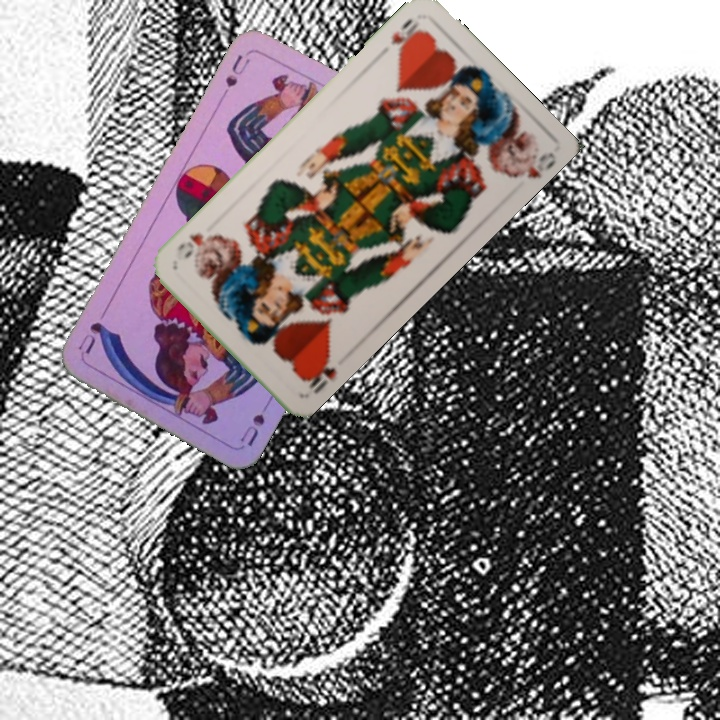HO: (298, 350, 340, 396), (387, 14, 425, 58)
SU: (236, 393, 276, 449), (221, 47, 253, 90)
